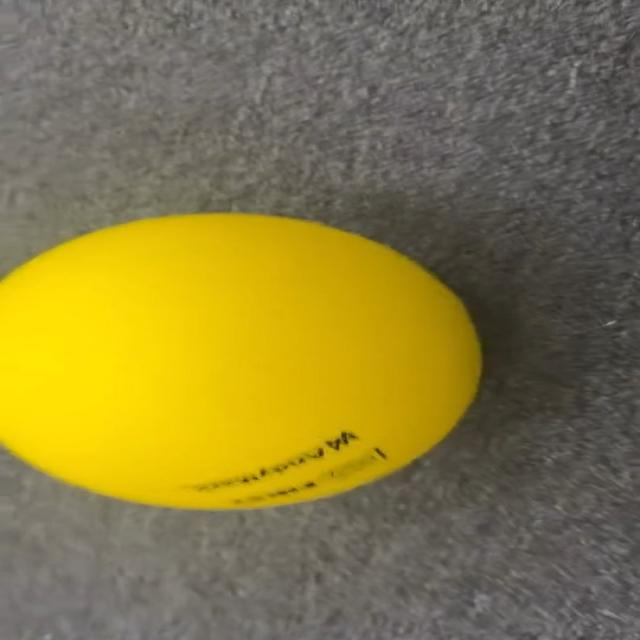Fuels: (4, 215, 486, 506)
